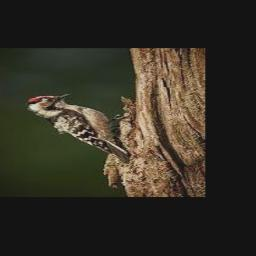Woodpecker: (25, 93, 128, 162)
